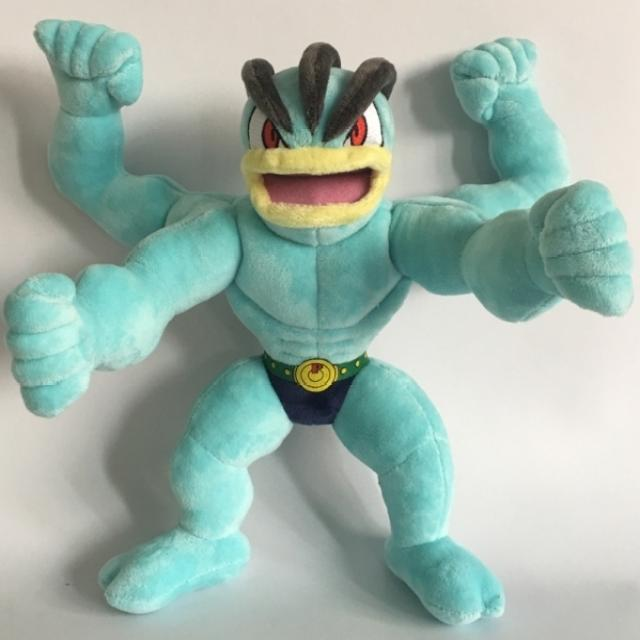Machamp: (110, 46, 534, 611)
